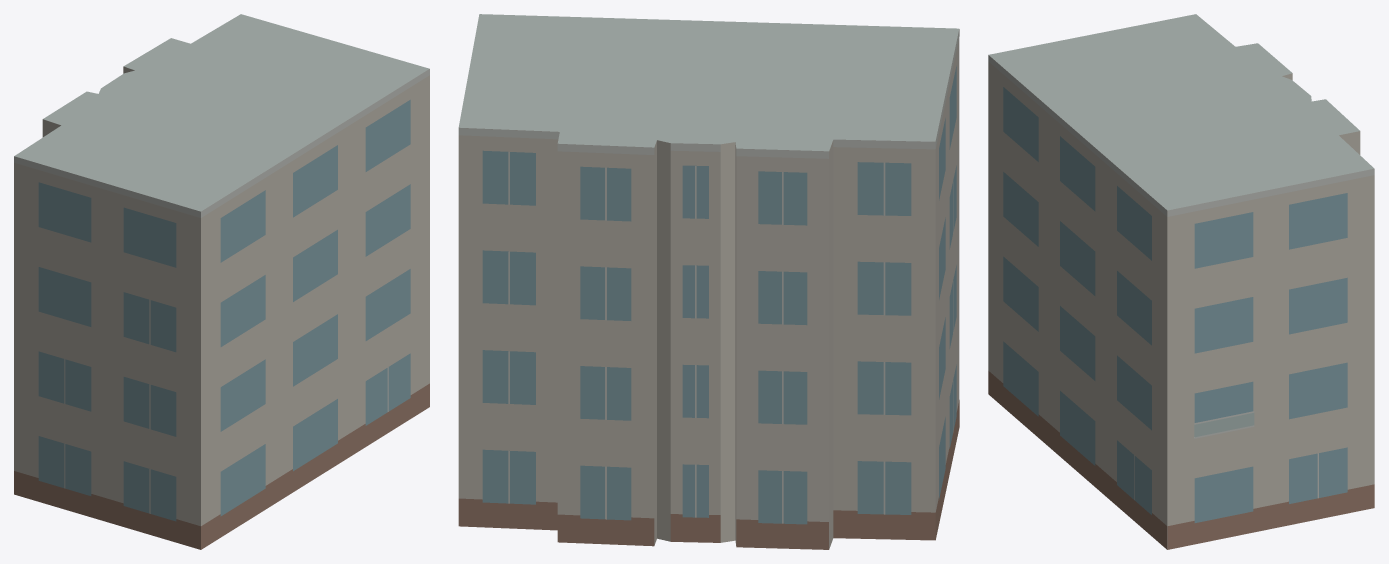
File: survey-upis-32742696.glb
3 views of the same model, side by side, from view 1: azimuth 30°, elevation 25°; view 2: azimuth 150°, elevation 25°; view 3: azimuth 270°, elevation 25° (orthographic). The views are drawn at different scales.
Parts seen in each view (by area): view 1: survey-upis-32742696.tmp; view 2: survey-upis-32742696.tmp; view 3: survey-upis-32742696.tmp.
Part boxes in pixels (box(x1,y1,x2,y2)): survey-upis-32742696.tmp: box(14, 14, 429, 549); survey-upis-32742696.tmp: box(458, 14, 959, 549); survey-upis-32742696.tmp: box(988, 14, 1374, 549).
Bounding box in the file's own units: 15.94 × 12.82 × 13.24.
